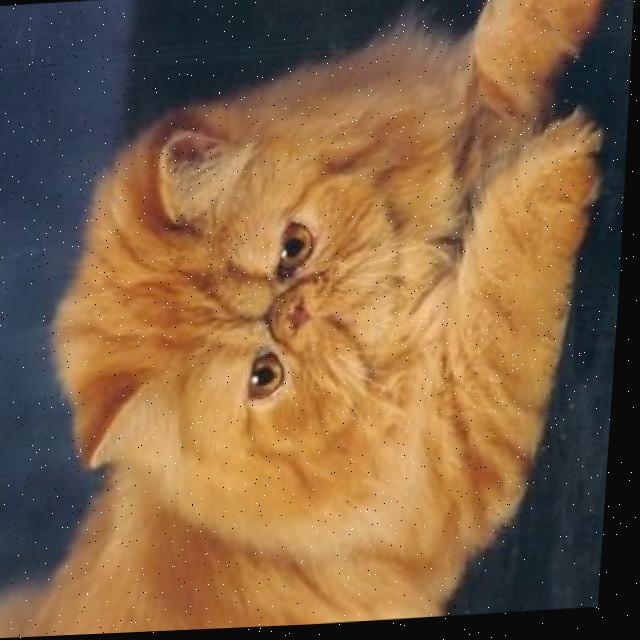Persian: (0, 0, 630, 640)
